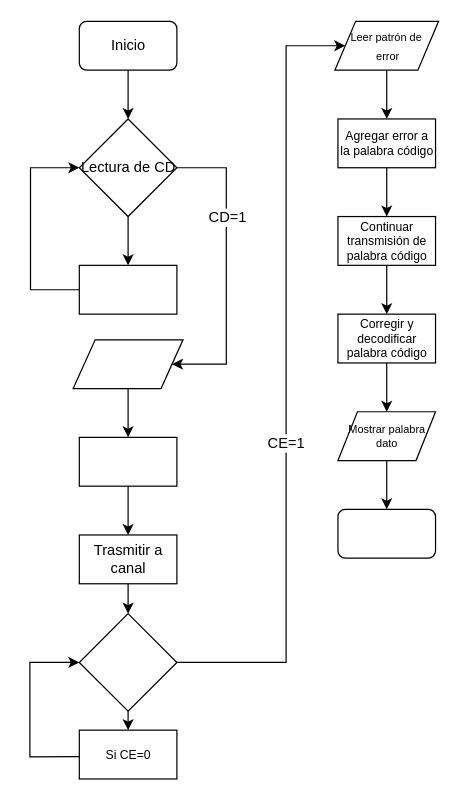
Some shapes in this 460 by 800 pixel diagram are drawn without their labels. The box of each missing label's shape, as (x1, y1, x2, y2) in pixels:
Codificar palabra dato: (78, 436, 177, 486)
Finalización: (337, 508, 436, 558)
Lectura de CE: (78, 612, 177, 711)
Leer palabra dato: (72, 339, 183, 389)
Si CD=0: (78, 264, 177, 314)
